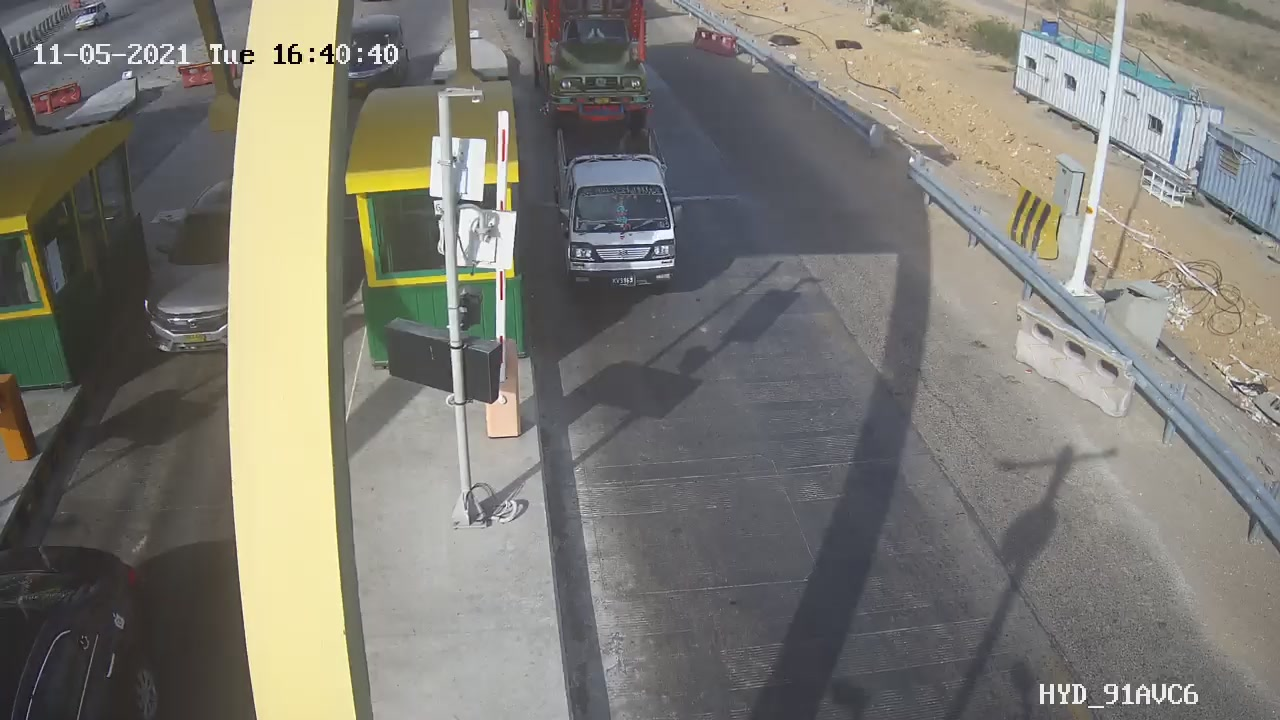F1: (534, 120, 713, 304)
